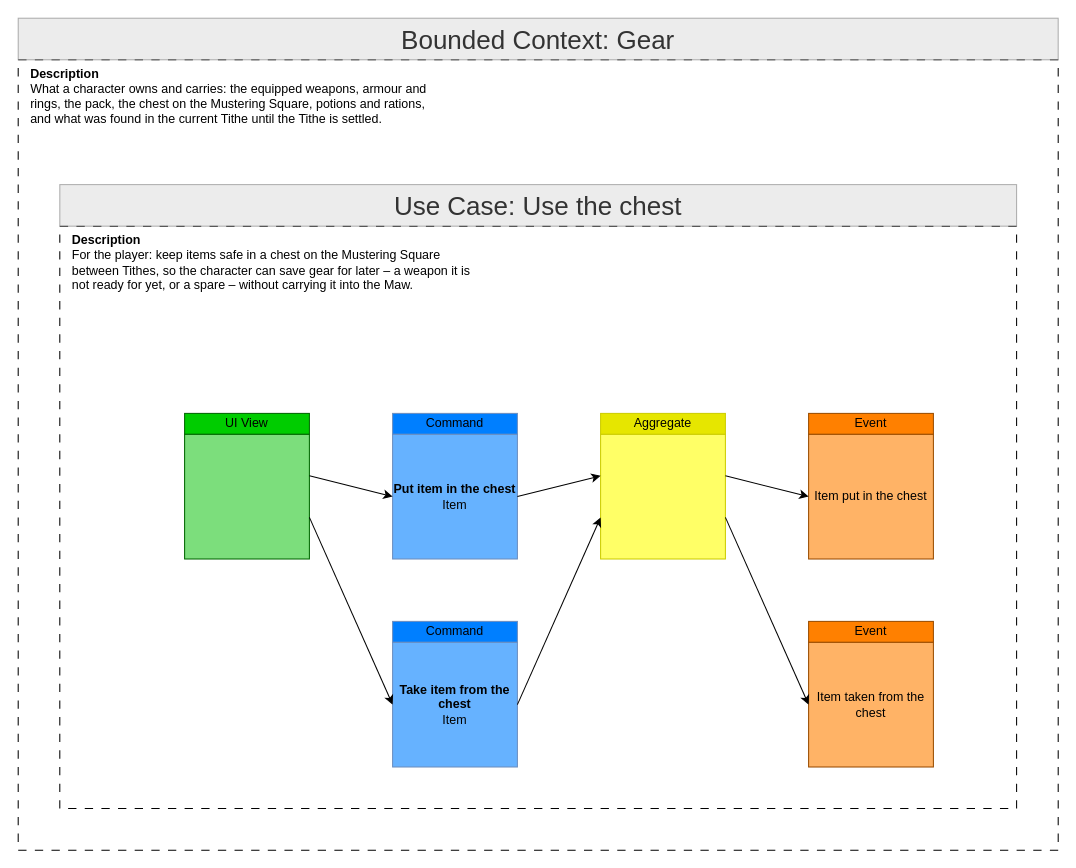
Image size: 1076x868. Some labels were removed from this diagram. Each missing label, with the box of its shape:
Chest Items (many) · Item: (600, 433, 725, 559)
Chest Player: (184, 433, 309, 559)
